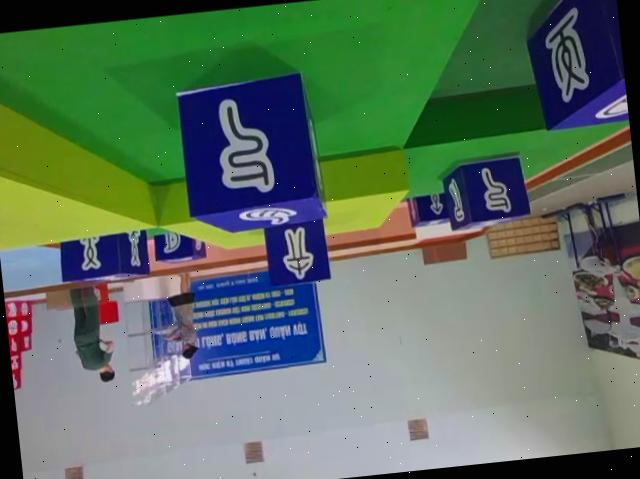R2 Fake Blue: (177, 67, 331, 238), (524, 0, 628, 132), (442, 151, 534, 230), (263, 217, 331, 287)
R2 Real Blue: (56, 226, 150, 283), (155, 226, 210, 263), (407, 191, 453, 227)
